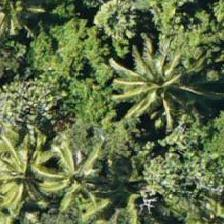coconut_tree: (118, 35, 208, 125), (30, 128, 120, 218), (0, 120, 68, 210), (152, 173, 223, 223)
